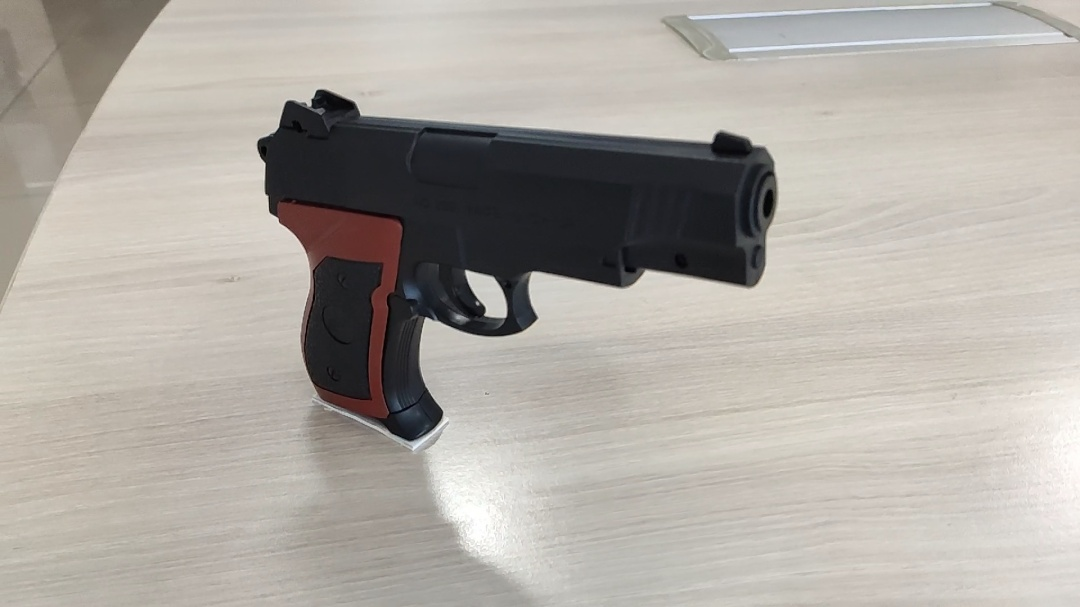gun: (256, 87, 781, 444)
